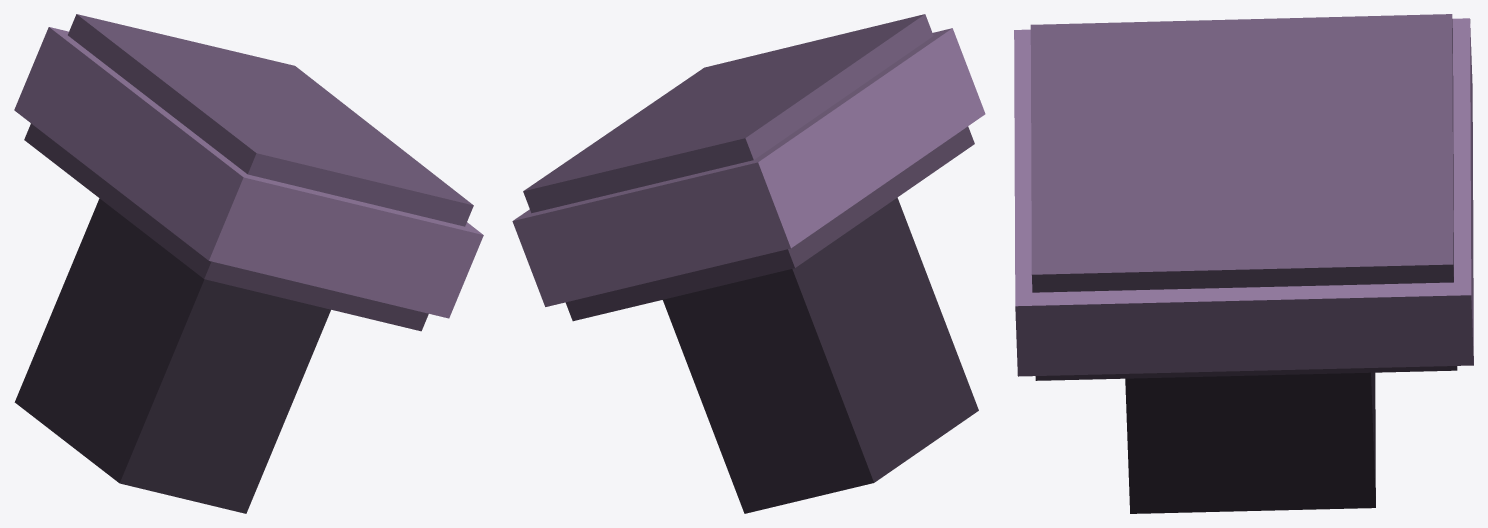
Rendered from fusionReady.glb.
3 views of the same model, side by side, from view 1: azimuth 30°, elevation 25°; view 2: azimuth 150°, elevation 25°; view 3: azimuth 270°, elevation 25° (orthographic). The views are drawn at different scales.
Visible parts, largest first — view 1: body.004; view 2: body.004; view 3: body.004.
Boxes of the visible parts, <box> form: body.004: <box>14,14,483,513</box>; body.004: <box>512,14,985,513</box>; body.004: <box>1014,14,1473,513</box>.
Bounding box in the file's own units: 0.0327 × 0.0403 × 0.0349.
Materials: 1 (1 with a texture image).
